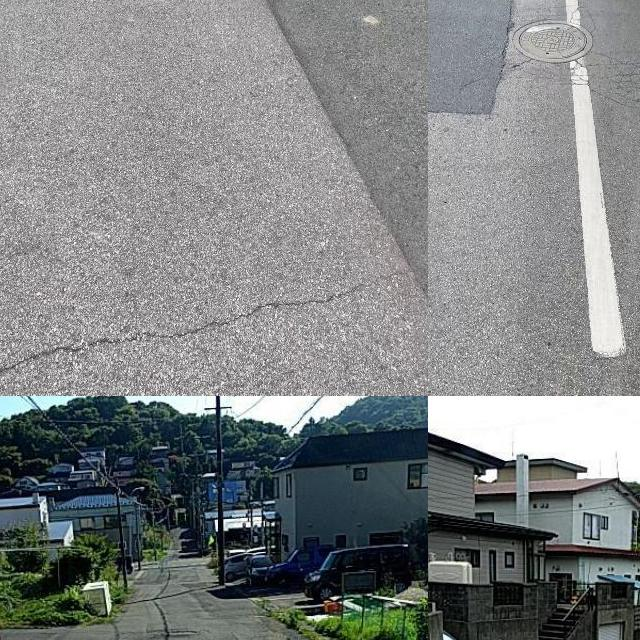Melintang: (0, 261, 412, 388)
Sambungan: (264, 0, 428, 300), (428, 0, 514, 114)
